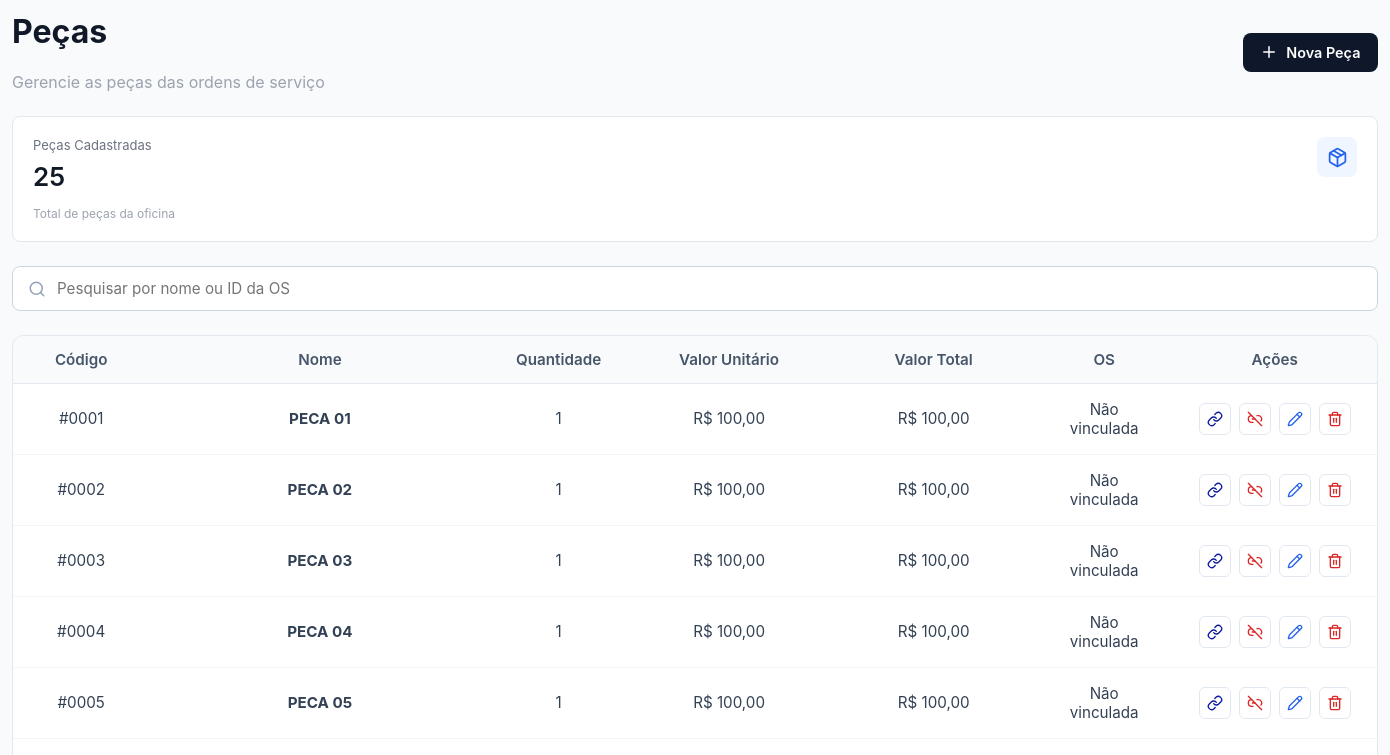
Test: Página de Peças › a busca roda no servidor: acha a peça que não estava na página carregada
This screenshot has width=1390, height=755.
Expected: the text "PECA 01" is shown, 289,409 -> 351,428
Expected: the text "PECA 25" is not shown
Type "peca 25" into the field with placeholder "Pesquisar por nome ou ID da OS". click: (695, 289)
box: 12,266 -> 1378,311
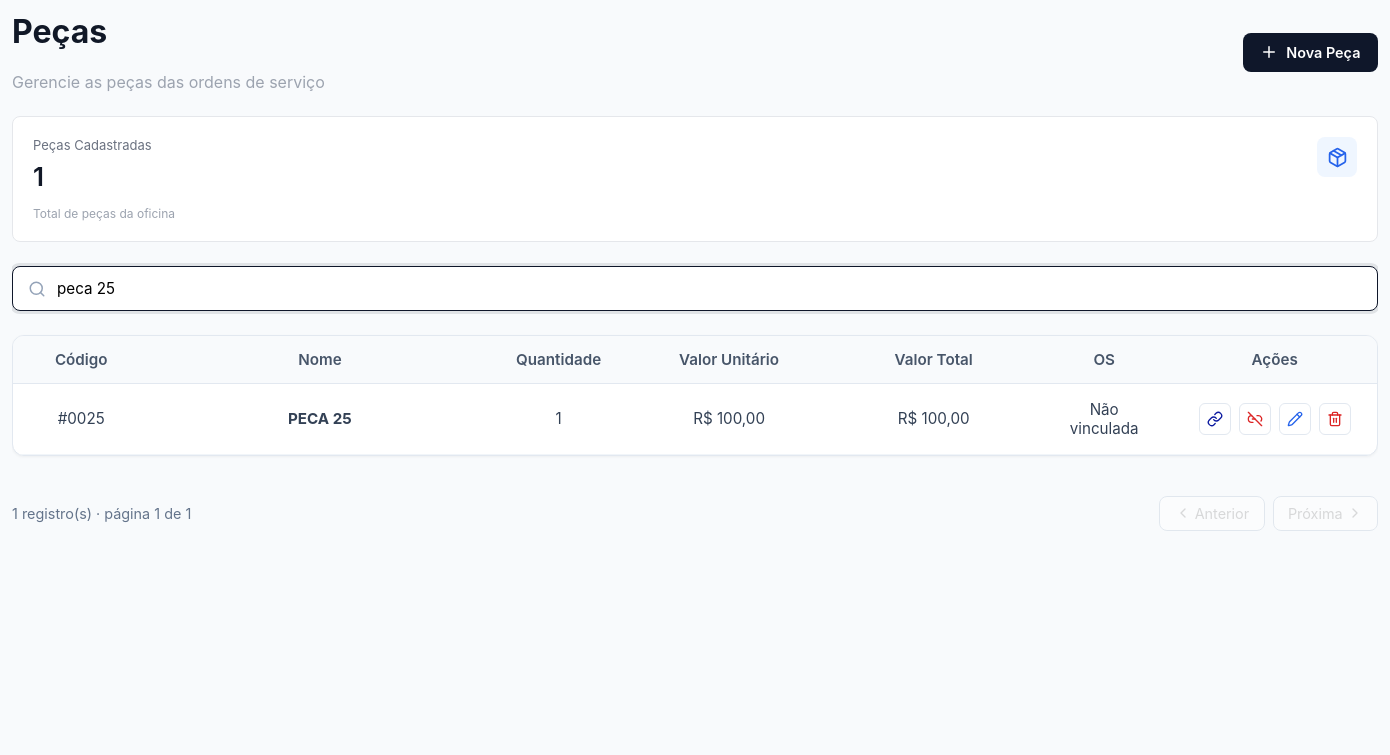
Result: the text "PECA 25" is shown at 288,409 -> 352,428
Result: the text "PECA 01" is gone
